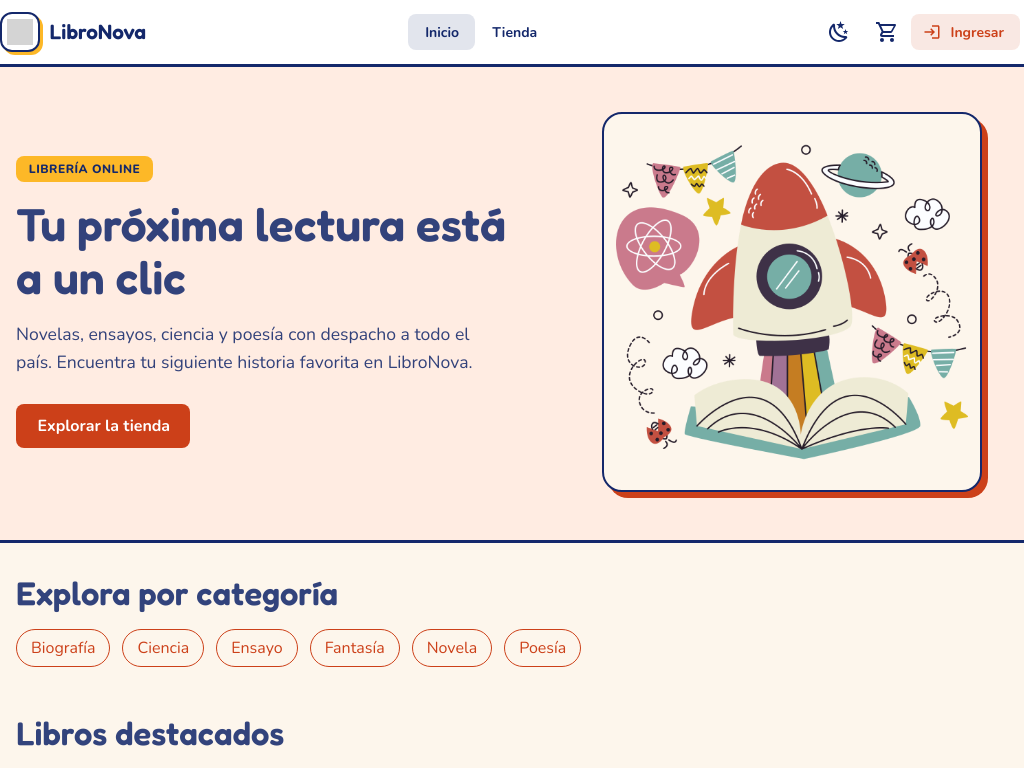
Test: Navegación y responsive › una categoría del inicio lleva a la tienda ya filtrada
Click the link "Biografía": (64, 648) [16, 629, 111, 667]
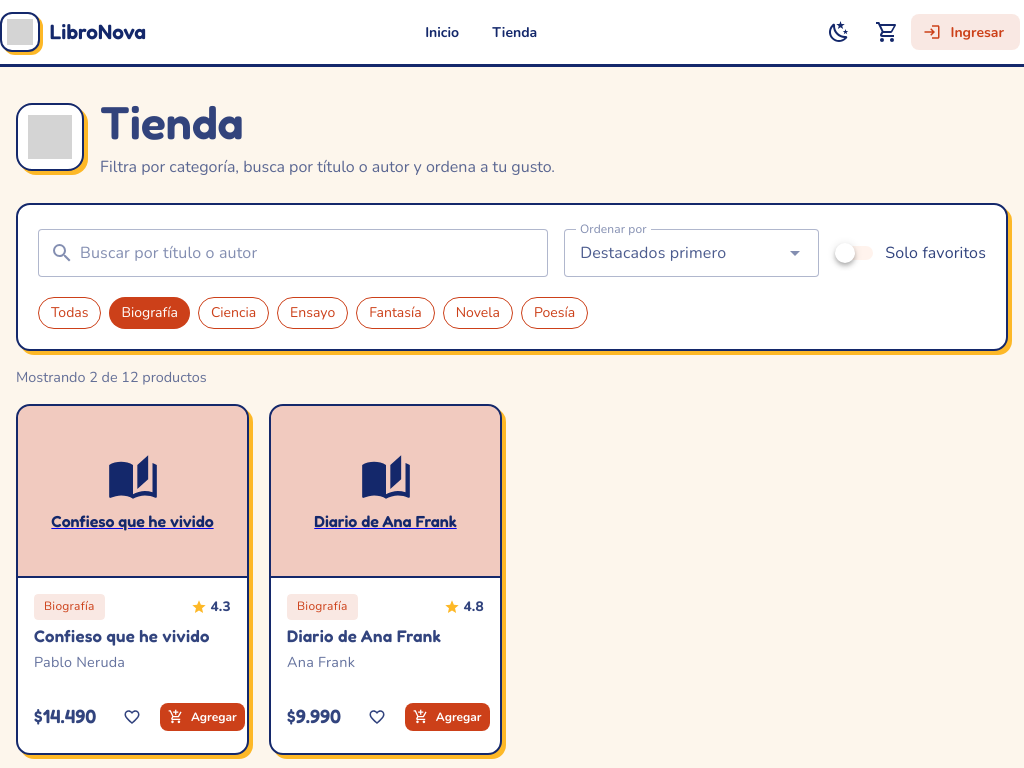
expect the element with test id "categoria" next to "4.3" reads "Biografía": met, box [34, 594, 105, 620]
expect the element with test id "categoria" next to "4.8" reads "Biografía": met, box [287, 594, 358, 620]
